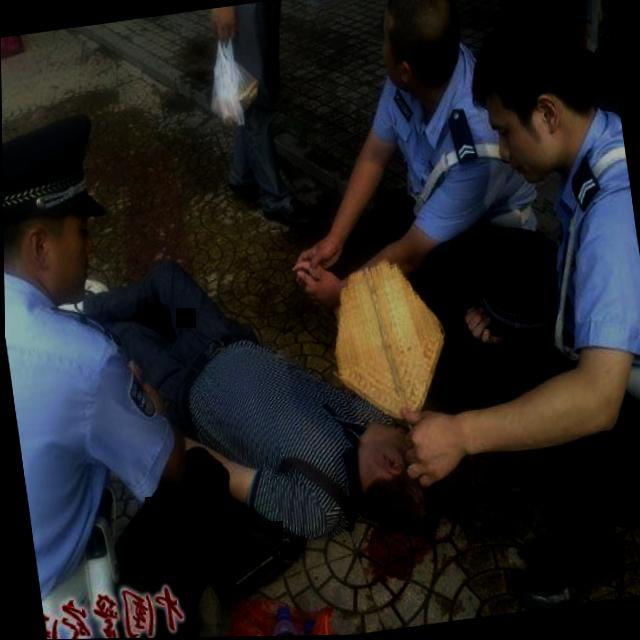Fall-Detected: (58, 187, 454, 590)
